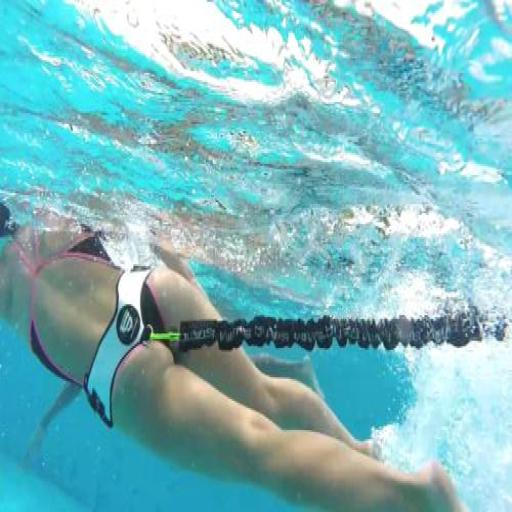swimming: (0, 197, 468, 508)
